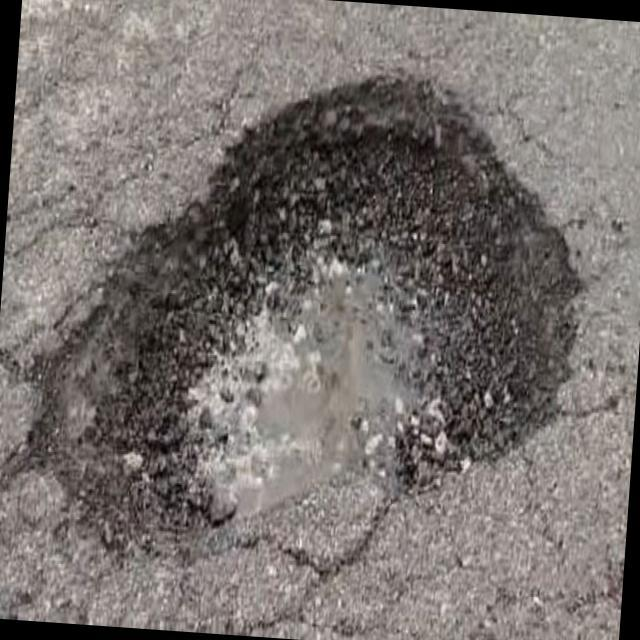Pothole: (16, 37, 604, 574)
